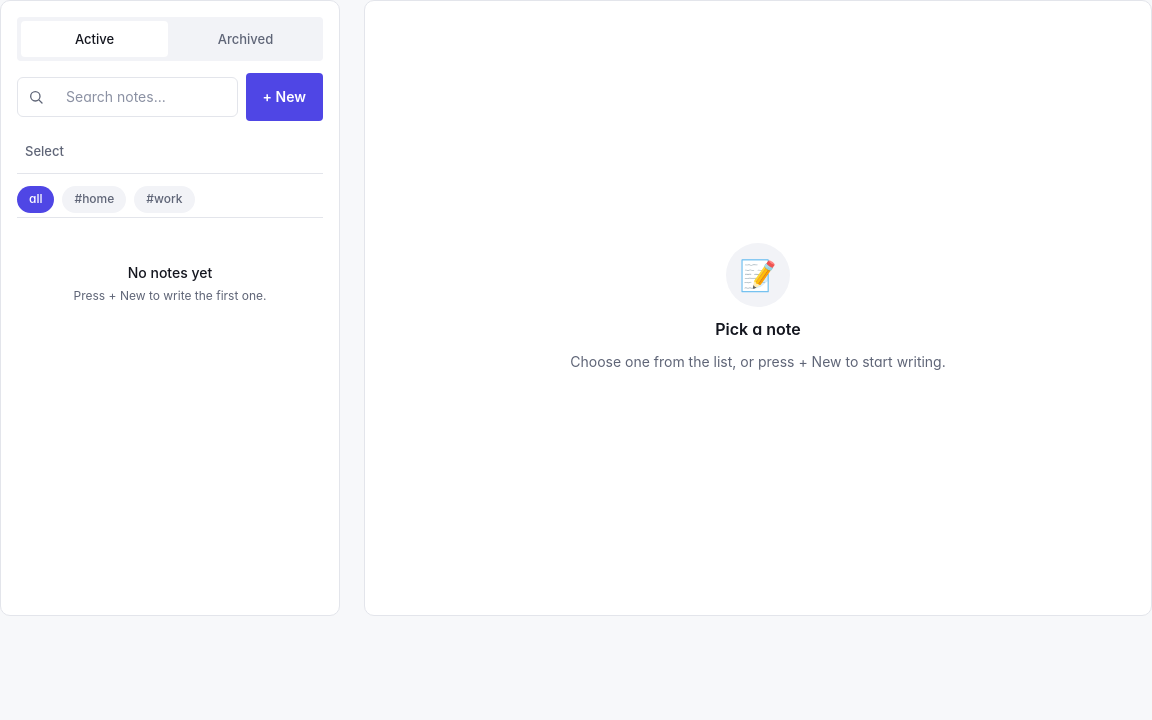
Test: Notes page on the store › names an empty archive as such rather than as an account with no notes
The image size is (1152, 720).
Expected: the text "No notes yet" is shown, [128,264,212,281]
Click the button "Archived" at (246, 39), box [172,21,319,57]
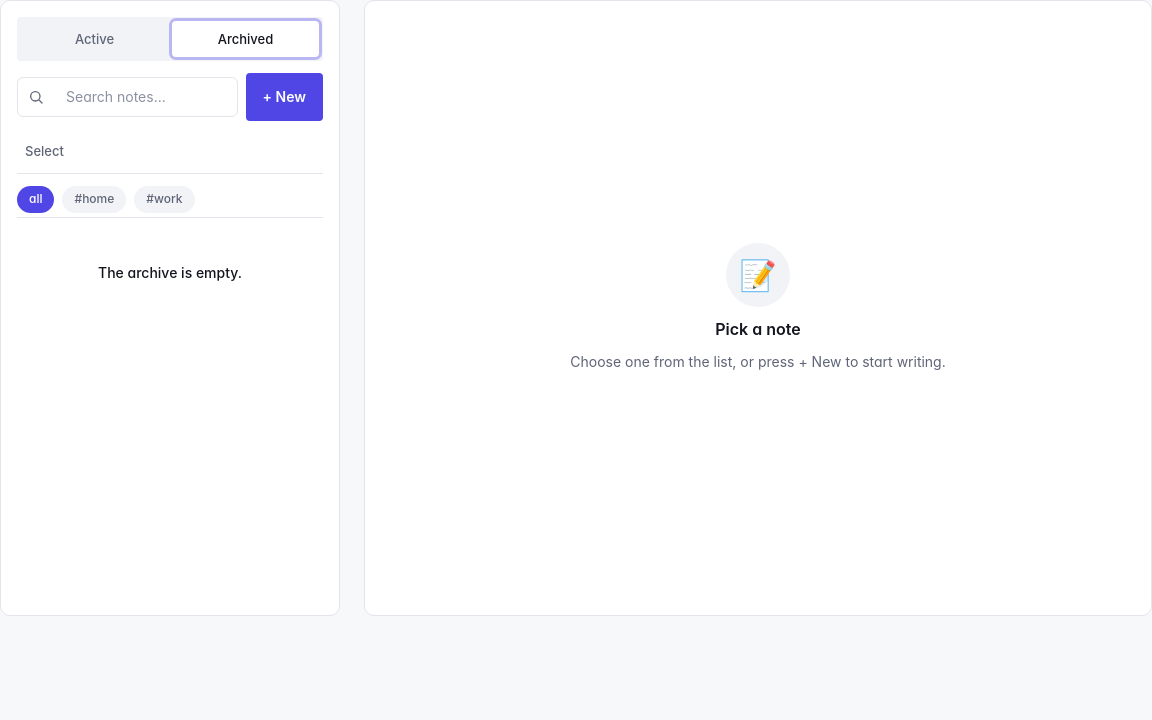
Expected: the text "The archive is empty." is shown, [98,264,242,281]
